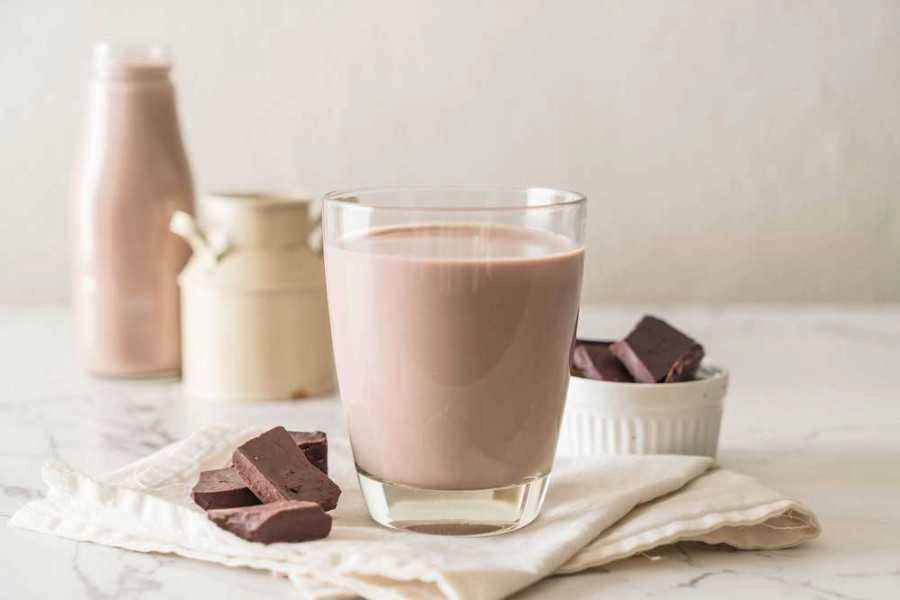produk_susu: (377, 199, 536, 494)
